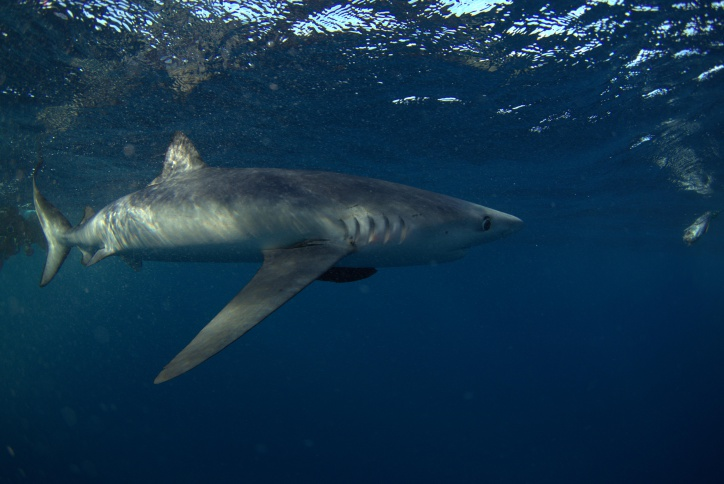Azul: (1, 130, 569, 388)
